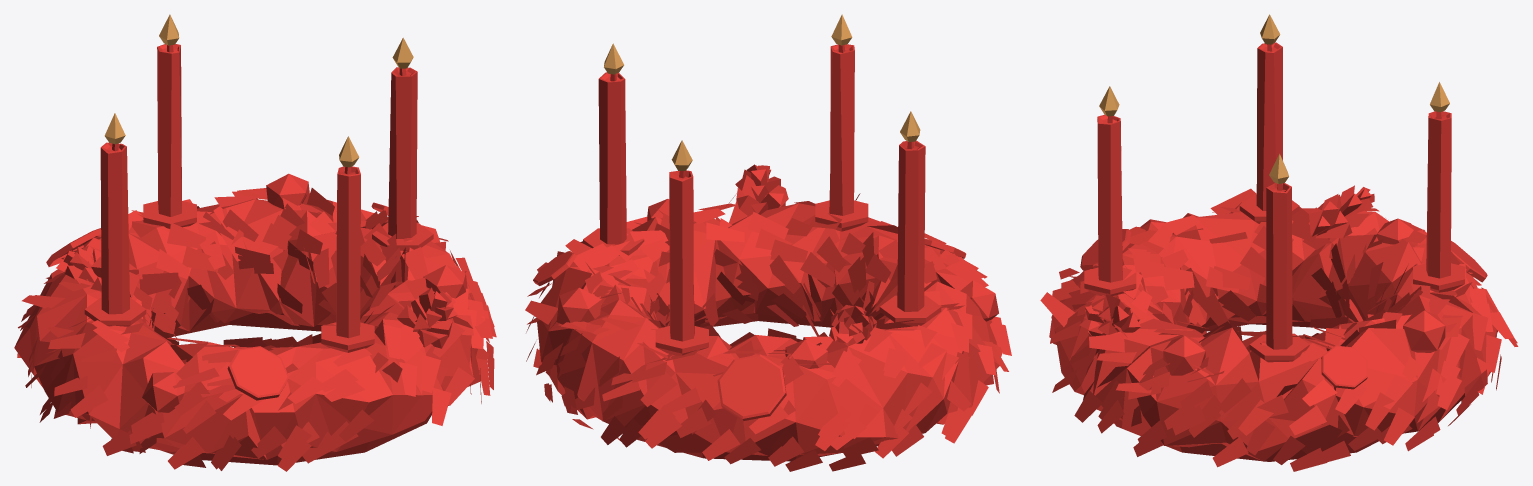
File: SM_Wreath_Advent_A.fbx
The picture shows the model from 3 angles, left to right: view 1: azimuth 30°, elevation 25°; view 2: azimuth 150°, elevation 25°; view 3: azimuth 270°, elevation 25°; orthographic projection. The views are drawn at different scales.
Parts seen in each view (by area): view 1: wreath-advent-a; view 2: wreath-advent-a; view 3: wreath-advent-a.
Boxes of the visible parts, box(x1,y1,x2,y2) form: wreath-advent-a: box(14, 14, 496, 471); wreath-advent-a: box(525, 14, 1011, 471); wreath-advent-a: box(1040, 14, 1518, 471).
Bounding box in the file's own units: 0.5754 × 0.3977 × 0.5667.
